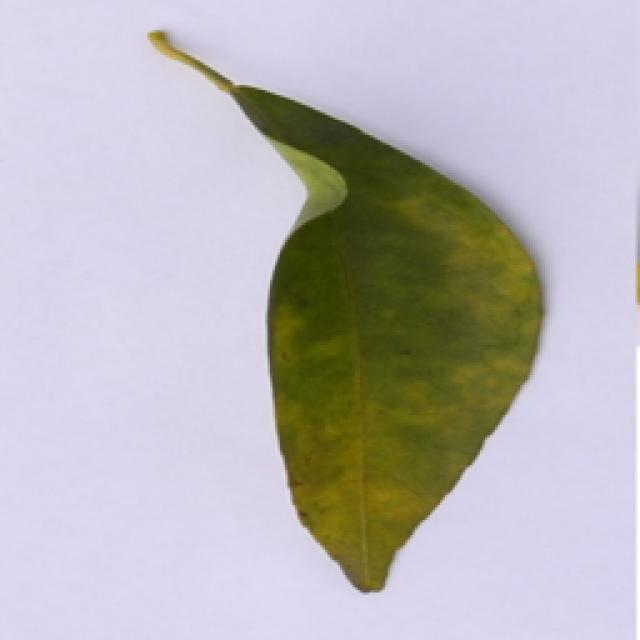greening: (150, 19, 558, 592)
